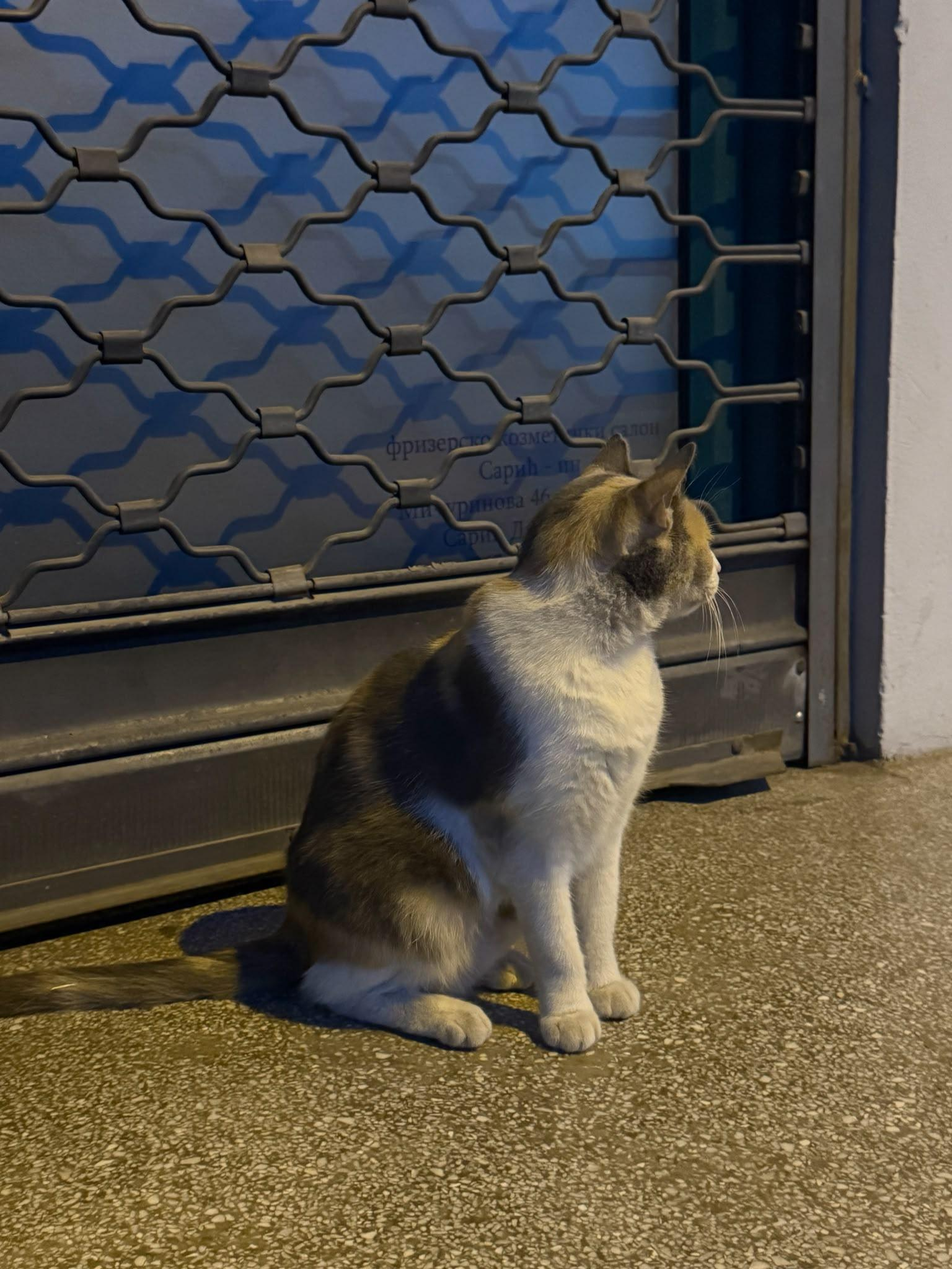macka: (0, 432, 721, 1061)
